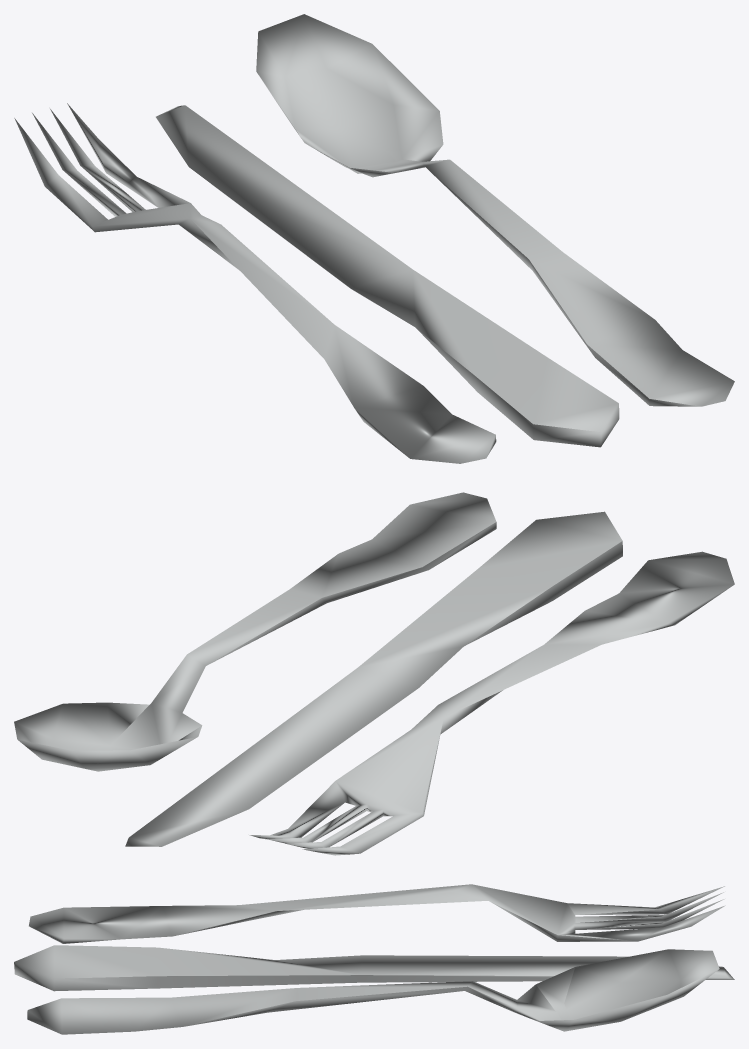
Rendered from cutlery.fbx.
The picture shows the model from 3 angles, top to bottom: view 1: azimuth 30°, elevation 25°; view 2: azimuth 150°, elevation 25°; view 3: azimuth 270°, elevation 25°; orthographic projection. The views are drawn at different scales.
Visible parts, largest first — view 1: Spoon002, Knife001, Fork002; view 2: Knife001, Spoon002, Fork002; view 3: Spoon002, Knife001, Fork002.
Part boxes in pixels (x1,y1,x2,y2): Spoon002: [256, 14, 734, 406]; Knife001: [156, 105, 619, 447]; Fork002: [14, 103, 496, 463]; Knife001: [125, 511, 622, 846]; Spoon002: [14, 492, 496, 771]; Fork002: [249, 551, 734, 855]; Spoon002: [27, 949, 719, 1034]; Knife001: [14, 945, 734, 991]; Fork002: [29, 884, 725, 943].
Size of the model in its own units: 7.62 by 1.59 by 16.86.
